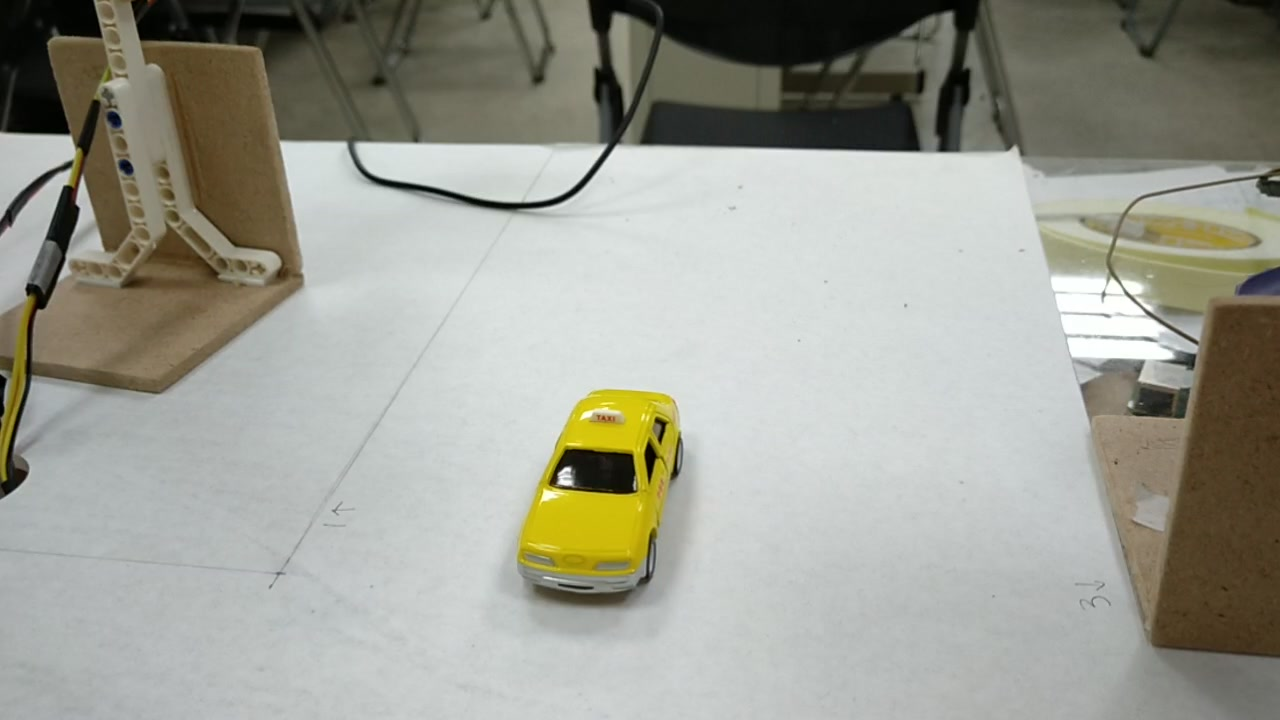car: (512, 382, 679, 604)
